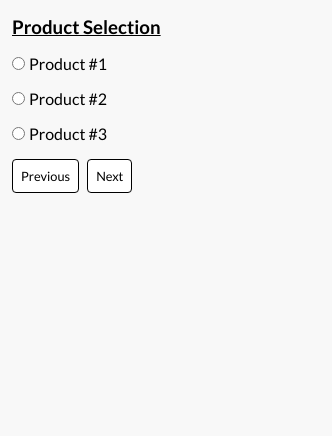
Test case: successful forward step transitions and form submission › step four renders after step three
Click the radio button labelled "Product #2": (18, 98) [12,92,25,105]
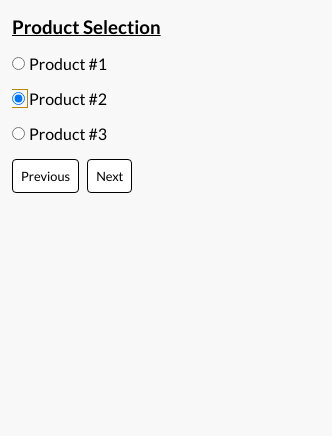
Click the button "Next": (110, 176) [87,159,132,193]
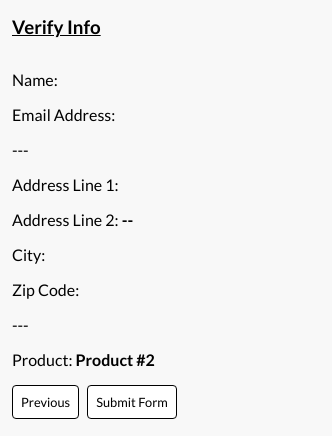
expect the heading "Verify Info" is shown: met, box [12,16,101,38]
